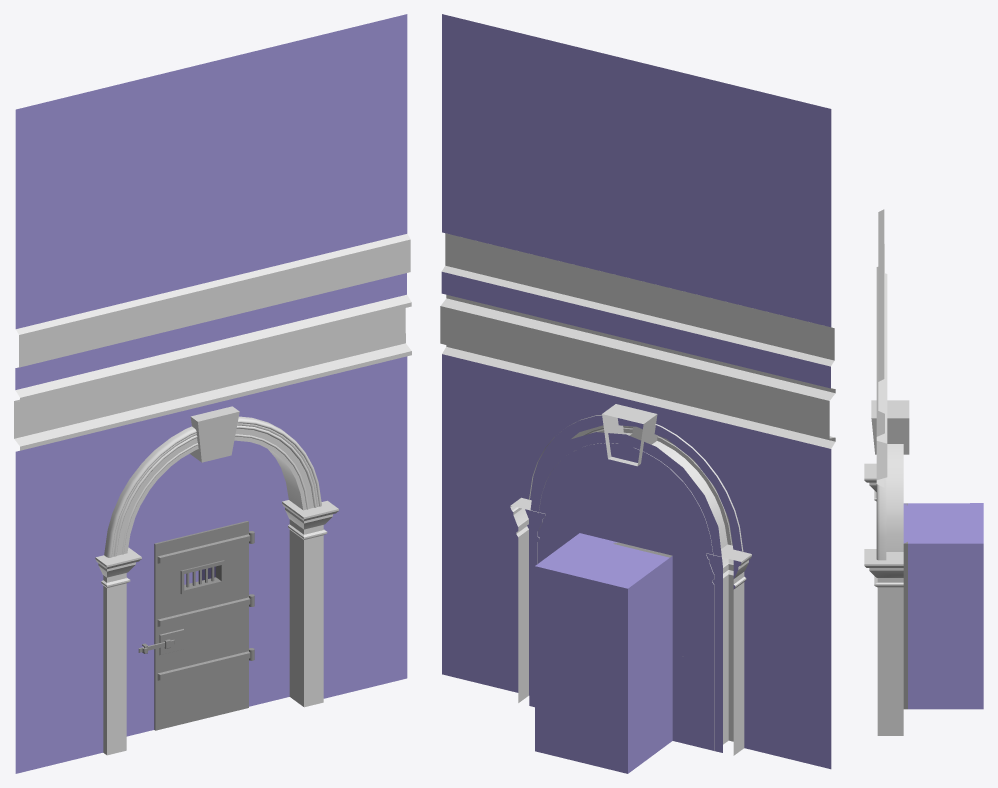
File: Prison Wall.fbx
The picture shows the model from 3 angles, left to right: view 1: azimuth 30°, elevation 25°; view 2: azimuth 150°, elevation 25°; view 3: azimuth 270°, elevation 25°; orthographic projection. The views are drawn at different scales.
Visible parts, largest first — view 1: Prison wall_LOD0; view 2: Prison wall_LOD0; view 3: Prison wall_LOD0.
Part boxes in pixels (x1,y1,x2,y2): Prison wall_LOD0: (14,14,411,773); Prison wall_LOD0: (440,14,835,773); Prison wall_LOD0: (864,209,983,735).
Size of what is drawn, in the model's own units: 459 by 743 by 136.
